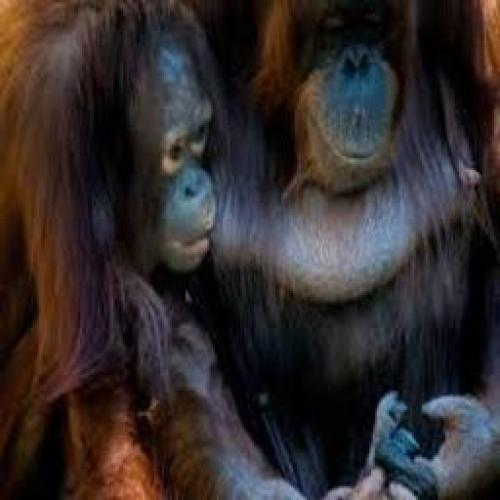orangutan-endangered: (177, 11, 486, 486), (17, 14, 246, 495)
